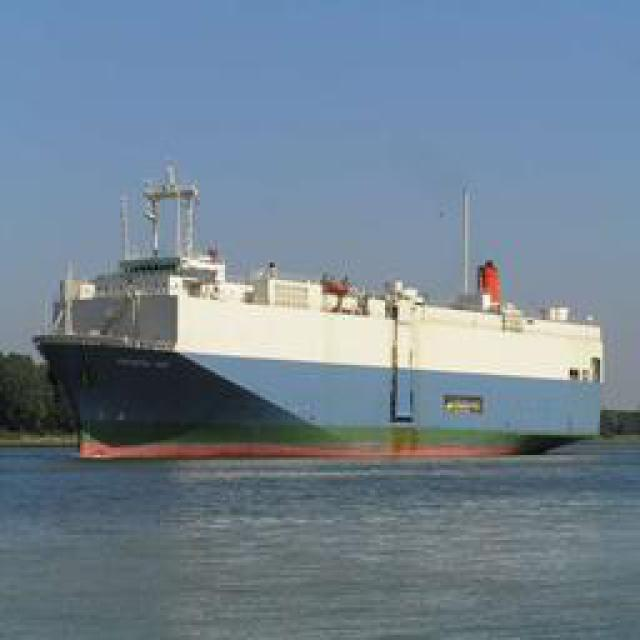Ship: (36, 159, 594, 464)
